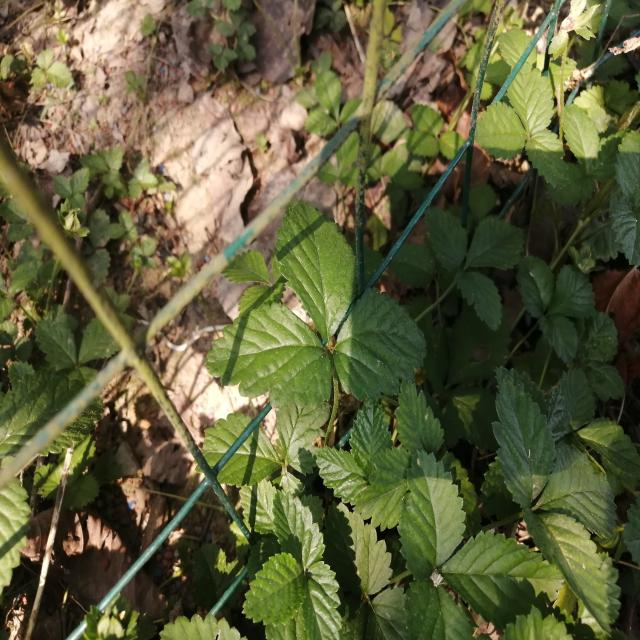Mock_strawberry: (252, 414, 612, 628), (217, 210, 427, 433)
